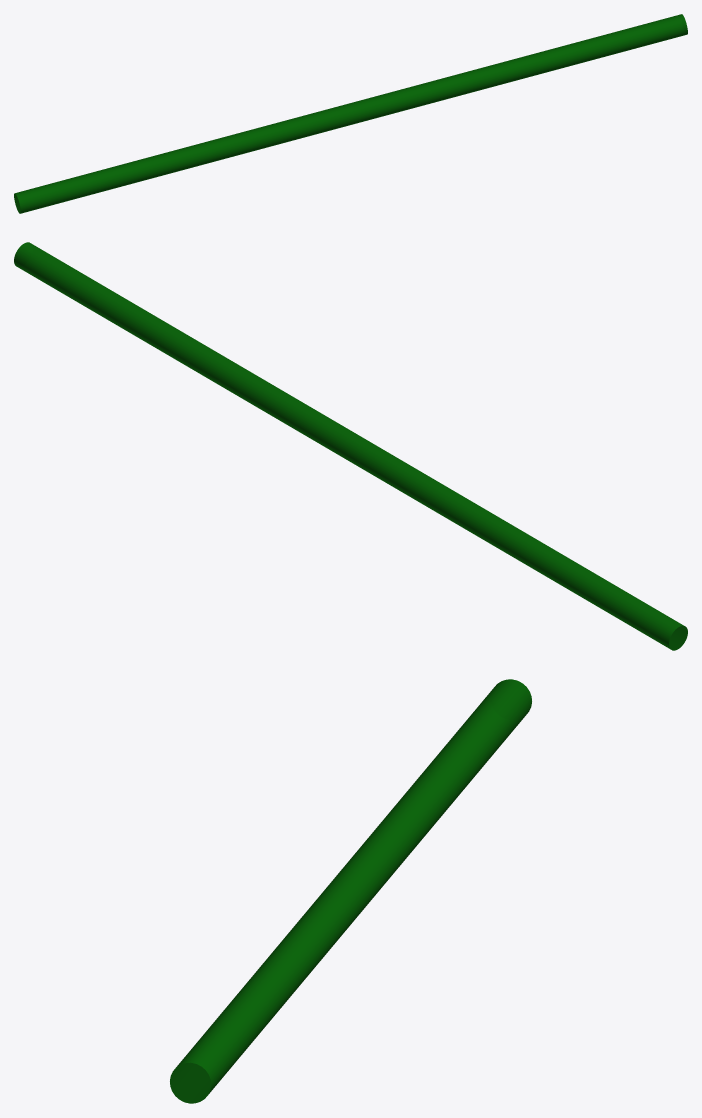
File: Event_421115418_jet_1.fbx
3 renders of one model, top to bottom at view 1: azimuth 30°, elevation 25°; view 2: azimuth 150°, elevation 25°; view 3: azimuth 270°, elevation 25°, orthographic. The views are drawn at different scales.
Visible parts, largest first — view 1: Model; view 2: Model; view 3: Model.
Boxes of the visible parts, x1,y1,x2,y2 form: Model: [14, 14, 687, 213]; Model: [14, 242, 687, 650]; Model: [170, 679, 531, 1103].
Size of the model in its own units: 1.28 by 0.2357 by 0.34.
